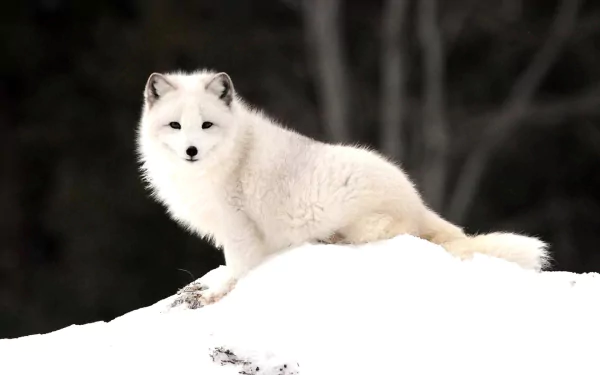arcticfox: (152, 92, 238, 200)
